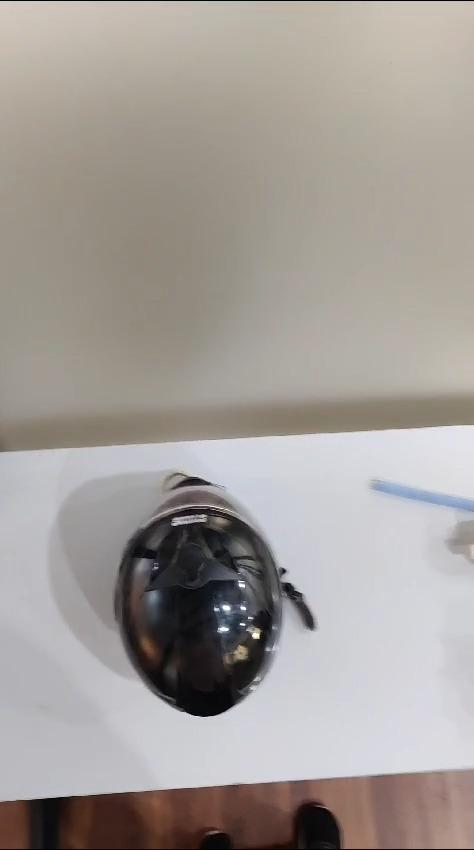Helmet: (115, 473, 314, 716)
